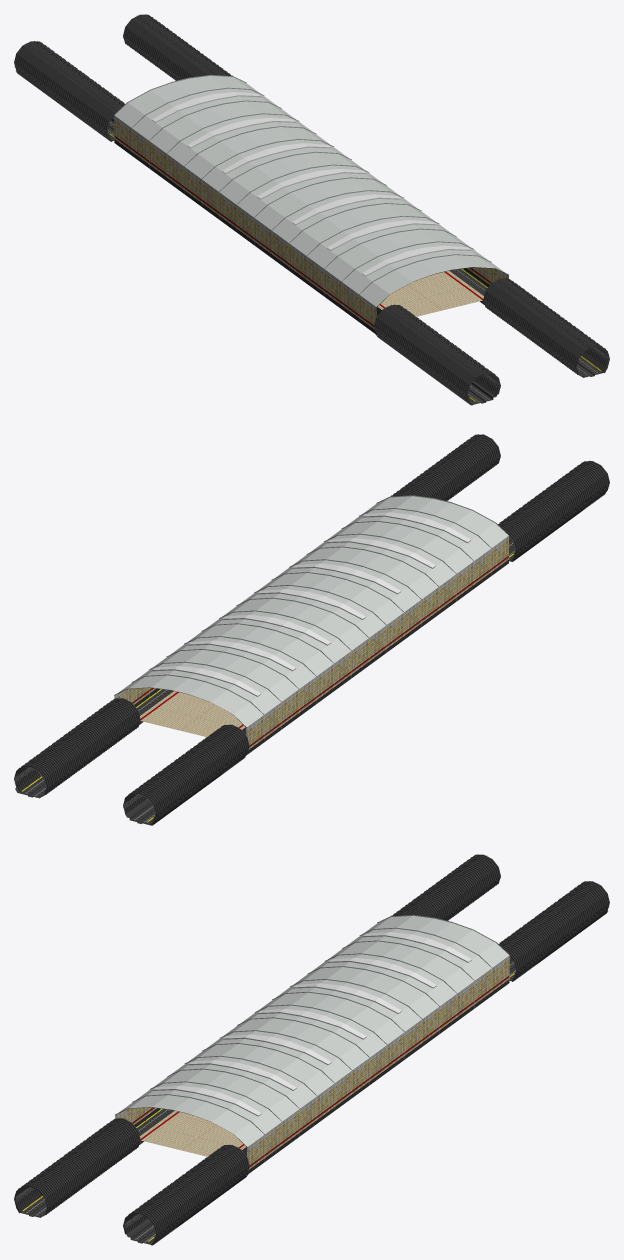
File: komechstantion.fbx
The picture shows the model from 3 angles, top to bottom: view 1: azimuth 30°, elevation 25°; view 2: azimuth 150°, elevation 25°; view 3: azimuth 330°, elevation 25°; orthographic projection.
Parts seen in each view (by area): view 1: komech, Tunnel.005, Tunnel.004; view 2: komech, Tunnel.004, Tunnel.005; view 3: komech, Tunnel.005, Tunnel.004.
Part boxes in pixels (<box>): komech: <box>114,75,508,334</box>; Tunnel.005: <box>374,278,609,405</box>; Tunnel.004: <box>14,14,232,141</box>; komech: <box>114,495,508,754</box>; Tunnel.004: <box>14,698,249,825</box>; Tunnel.005: <box>390,434,609,561</box>; komech: <box>115,915,509,1174</box>; Tunnel.005: <box>14,1118,249,1245</box>; Tunnel.004: <box>391,854,609,981</box>.
Bounding box in the file's own units: 23.65 × 7.66 × 130.
